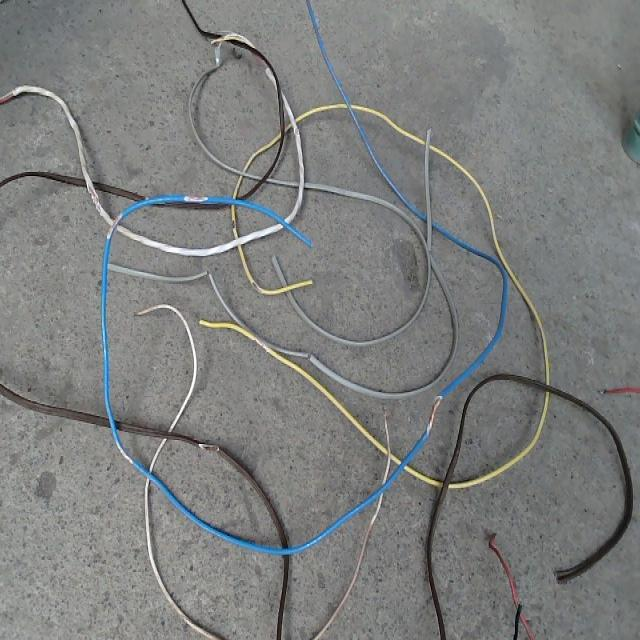-: (426, 392, 442, 431), (106, 213, 121, 235), (87, 185, 99, 208), (197, 440, 219, 452), (183, 193, 209, 203), (250, 279, 262, 292)
